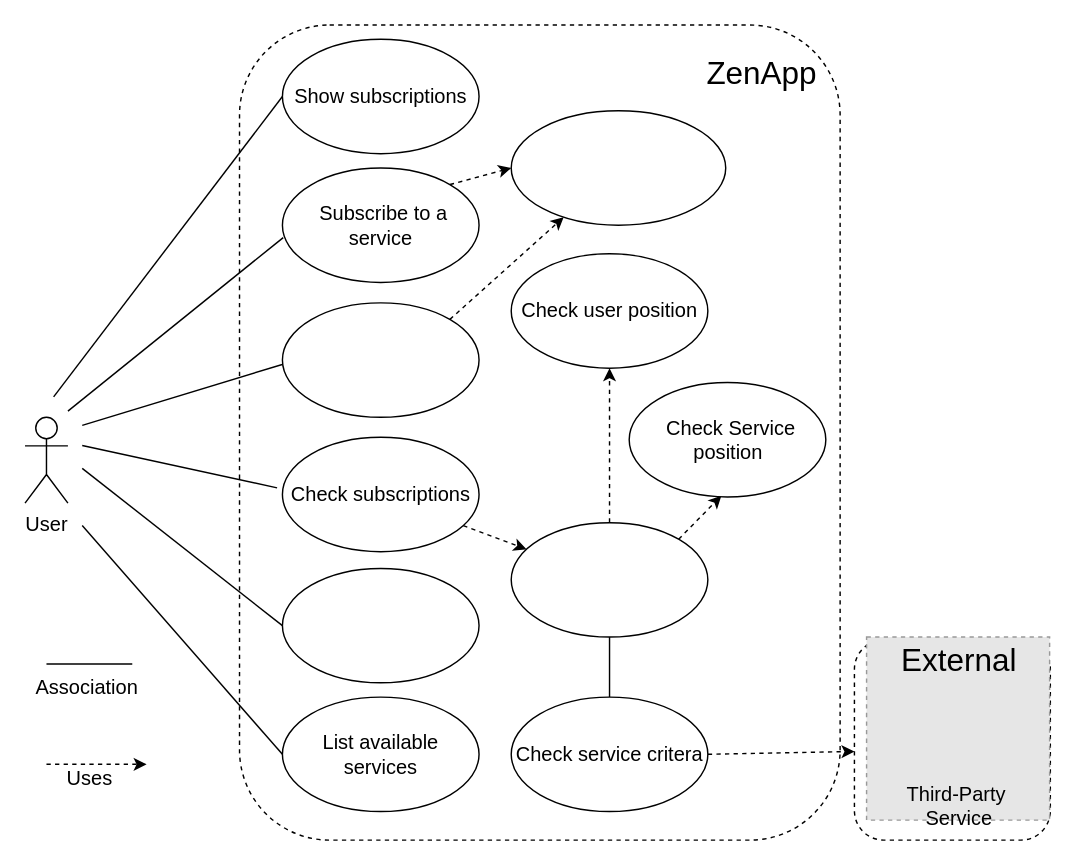
The diagram is 1075 pixels wide and 865 high, and some of its shapes have lost their labels. Grey dashed boxes stand in for pictures. Each missing label, with the box of its shape:
Calculate Distance: (510, 521, 708, 637)
Receive notification: (281, 567, 479, 683)
Unsubscribe to a service: (281, 301, 479, 417)
Update user subscriptions: (510, 109, 726, 225)
